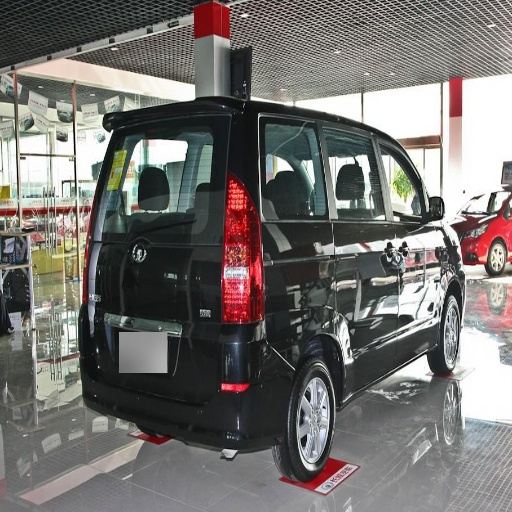back_bumper: (197, 390, 271, 433)
back_right_door: (273, 120, 394, 359)
tailgate: (81, 82, 153, 132)
trunk: (122, 216, 243, 401)
